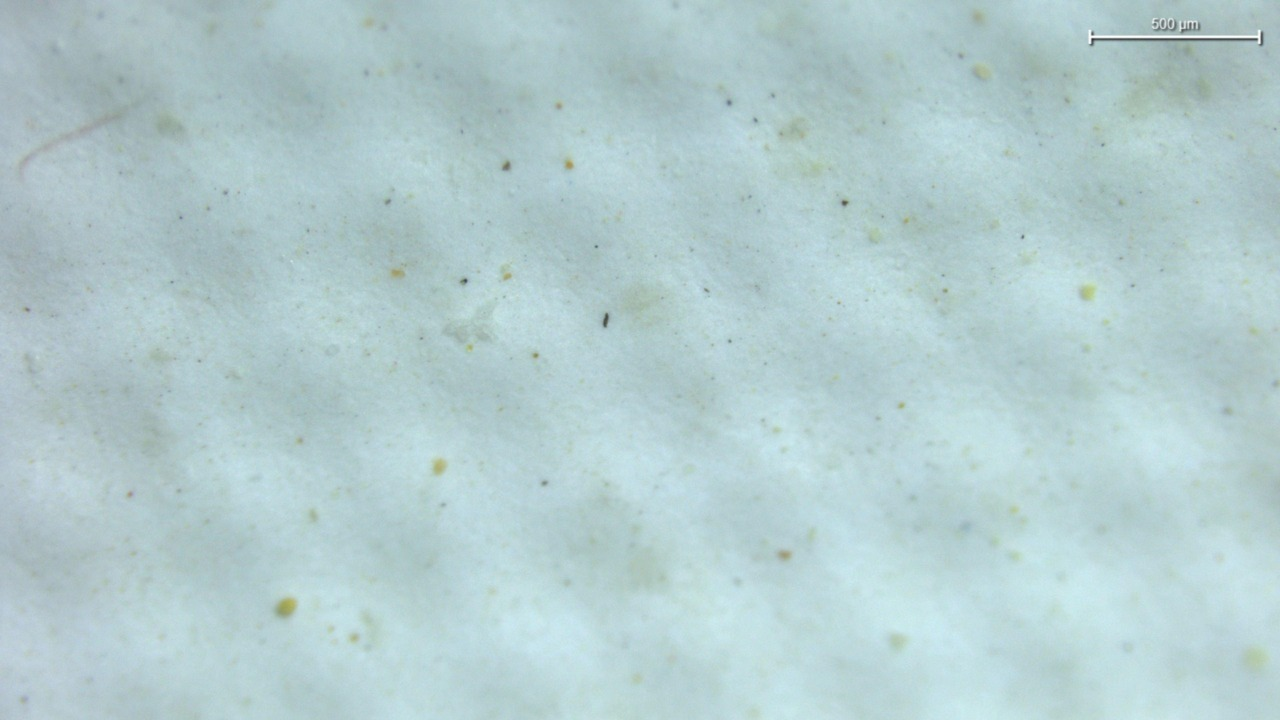microplastic_fragment: (442, 303, 495, 343)
